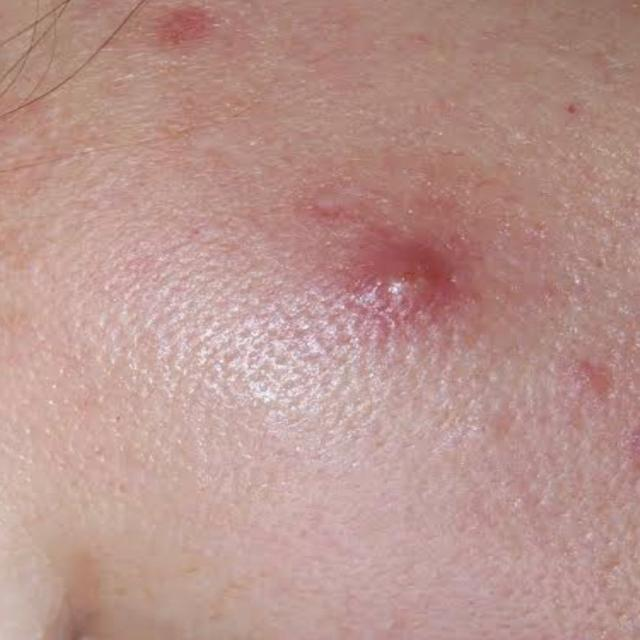nodule: (323, 222, 523, 357)
